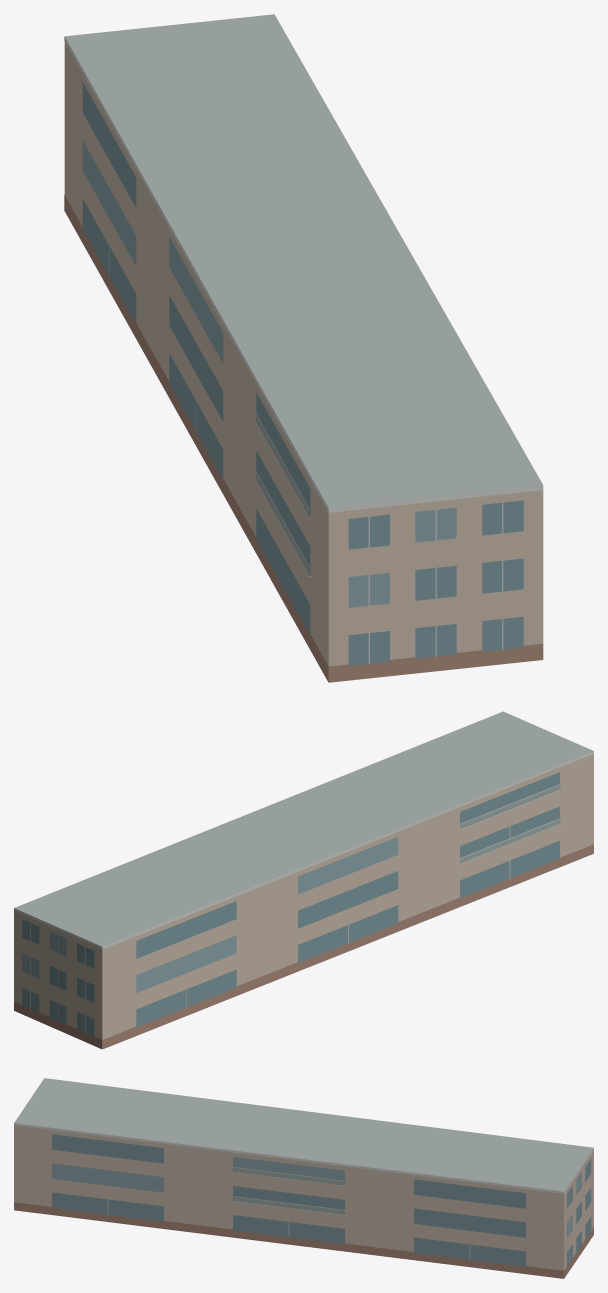
The model's file is survey-upis-32868486.glb.
3 views of the same model, one above another, from view 1: azimuth 30°, elevation 25°; view 2: azimuth 150°, elevation 25°; view 3: azimuth 270°, elevation 25° (orthographic). The views are drawn at different scales.
Parts seen in each view (by area): view 1: survey-upis-32868486.tmp; view 2: survey-upis-32868486.tmp; view 3: survey-upis-32868486.tmp.
Boxes of the visible parts, x1,y1,x2,y2 form: survey-upis-32868486.tmp: [64, 14, 543, 682]; survey-upis-32868486.tmp: [14, 711, 593, 1049]; survey-upis-32868486.tmp: [14, 1078, 593, 1278].
Bounding box in the file's own units: 25.56 × 9.15 × 55.13.
